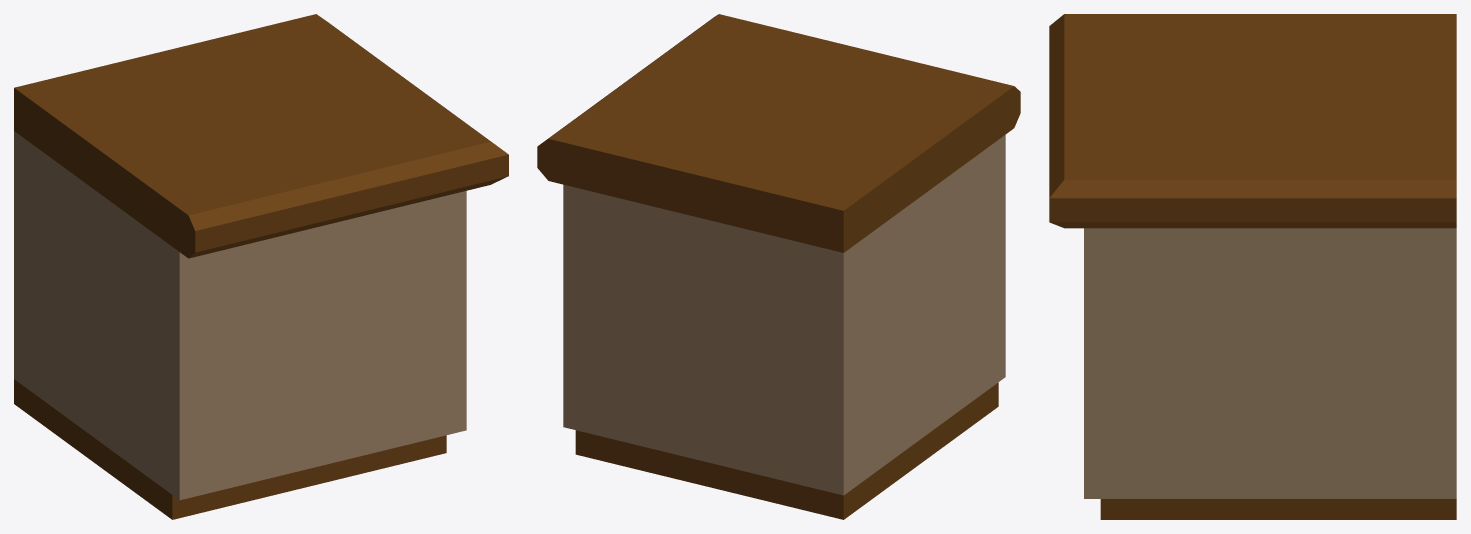
File: SM_Bench_Corner_Outer.fbx
3 renders of one model, left to right at view 1: azimuth 30°, elevation 25°; view 2: azimuth 150°, elevation 25°; view 3: azimuth 270°, elevation 25°, orthographic. The views are drawn at different scales.
Visible parts, largest first — view 1: SM_Bench_Corner_Outer; view 2: SM_Bench_Corner_Outer; view 3: SM_Bench_Corner_Outer.
Boxes of the visible parts, left/top/right/bottom form: SM_Bench_Corner_Outer: left=14, top=14, right=508, bottom=519; SM_Bench_Corner_Outer: left=537, top=14, right=1020, bottom=519; SM_Bench_Corner_Outer: left=1049, top=14, right=1456, bottom=519.
Size of the model in its own units: 104 by 100 by 104.
